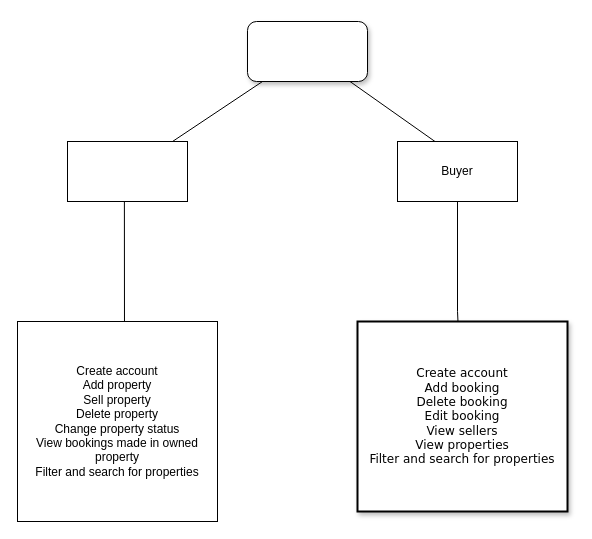
Image size: 592x539. Some labels were removed from this diagram. The shapes that lost their labels are listed below. From the top down, each one's centre as x and y in pixels, then its label:
At [308,52]: "User".
At [127,171]: "Seller".
